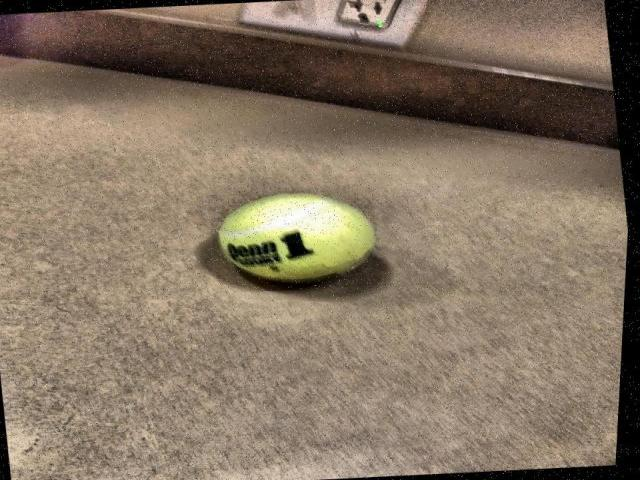tennis-ball: (216, 191, 377, 285)
